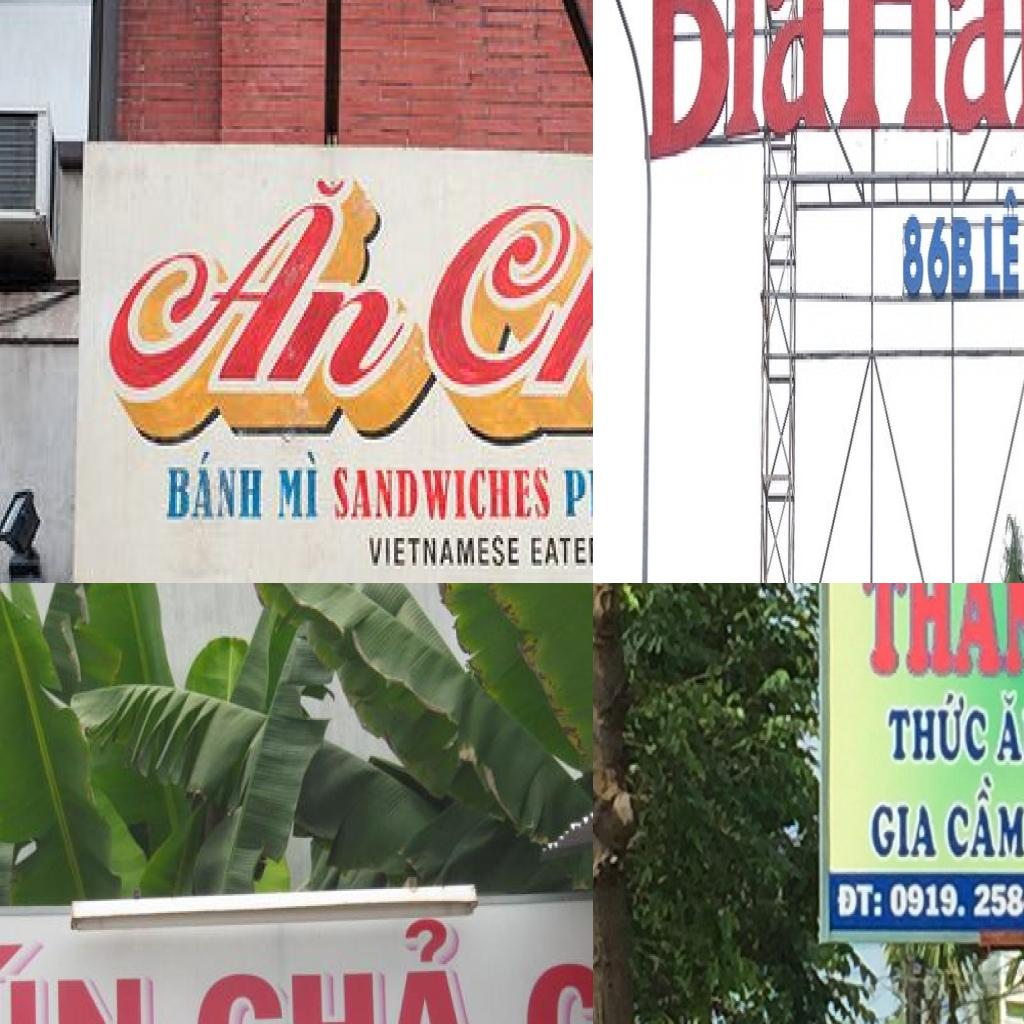text: (106, 166, 448, 446), (418, 178, 593, 439), (184, 912, 499, 1024), (634, 0, 832, 174), (836, 0, 1024, 138), (326, 455, 554, 526), (860, 583, 1024, 681), (0, 936, 166, 1024), (513, 916, 593, 1024), (159, 446, 265, 526), (886, 688, 990, 767), (944, 768, 1024, 865), (363, 529, 523, 575), (902, 214, 976, 302), (888, 875, 1024, 922), (868, 797, 944, 862), (984, 180, 1022, 302), (272, 446, 322, 526), (525, 529, 593, 569), (994, 684, 1024, 768), (560, 452, 593, 519), (837, 882, 884, 922)
